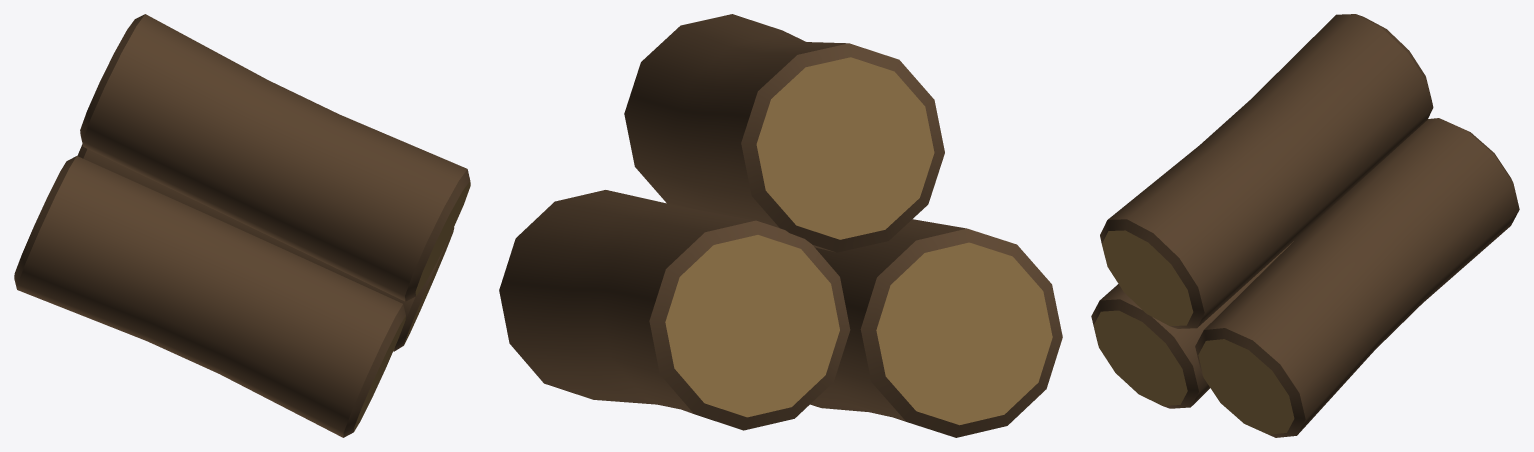
The model's file is UI_Wood.glb.
3 renders of one model, left to right at view 1: azimuth 30°, elevation 25°; view 2: azimuth 150°, elevation 25°; view 3: azimuth 270°, elevation 25°, orthographic. The views are drawn at different scales.
Visible parts, largest first — view 1: UI_Wood; view 2: UI_Wood; view 3: UI_Wood.
Part boxes in pixels (x1,y1,x2,y2): UI_Wood: [14, 14, 470, 437]; UI_Wood: [499, 14, 1062, 437]; UI_Wood: [1091, 14, 1519, 437].
Bounding box in the file's own units: 0.5581 × 0.4678 × 0.5338.
1 material, 1 textured.
